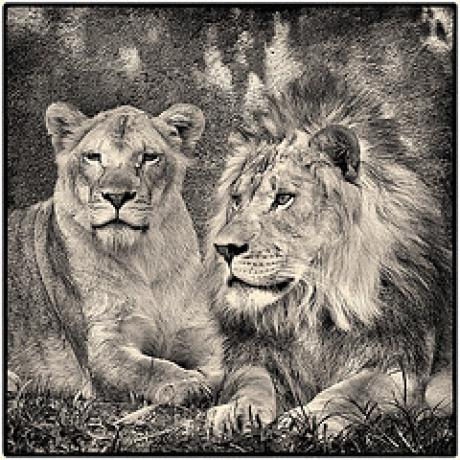Lion: (213, 55, 460, 442), (0, 100, 225, 403)
